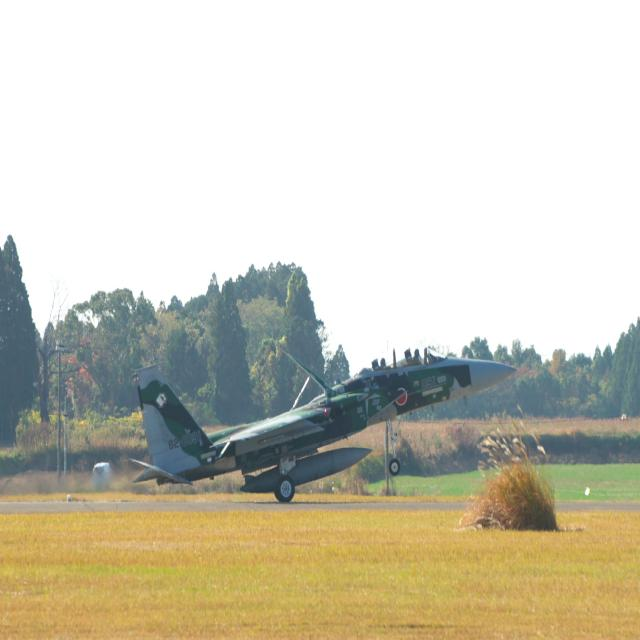MIL_Plane: (129, 342, 521, 504)
